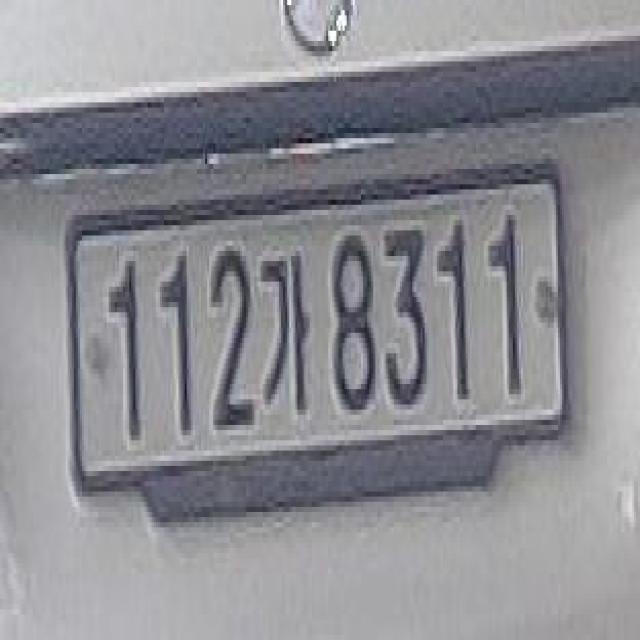illegal_plate: (65, 167, 563, 510)
